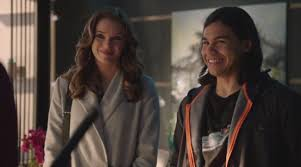Caution: (44, 6, 298, 166)
